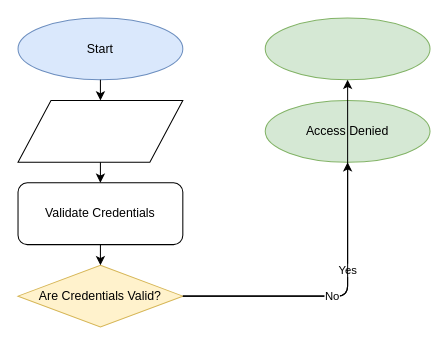
Some shapes in this 448 by 345 pixel diagram are drawn without their labels. The shapes that lost their labels are listed below. From the top down, each one's centre as x and y in pixels, then its label:
At point 347,48: "Access Granted".
At point 100,130: "User Enters Credentials".
